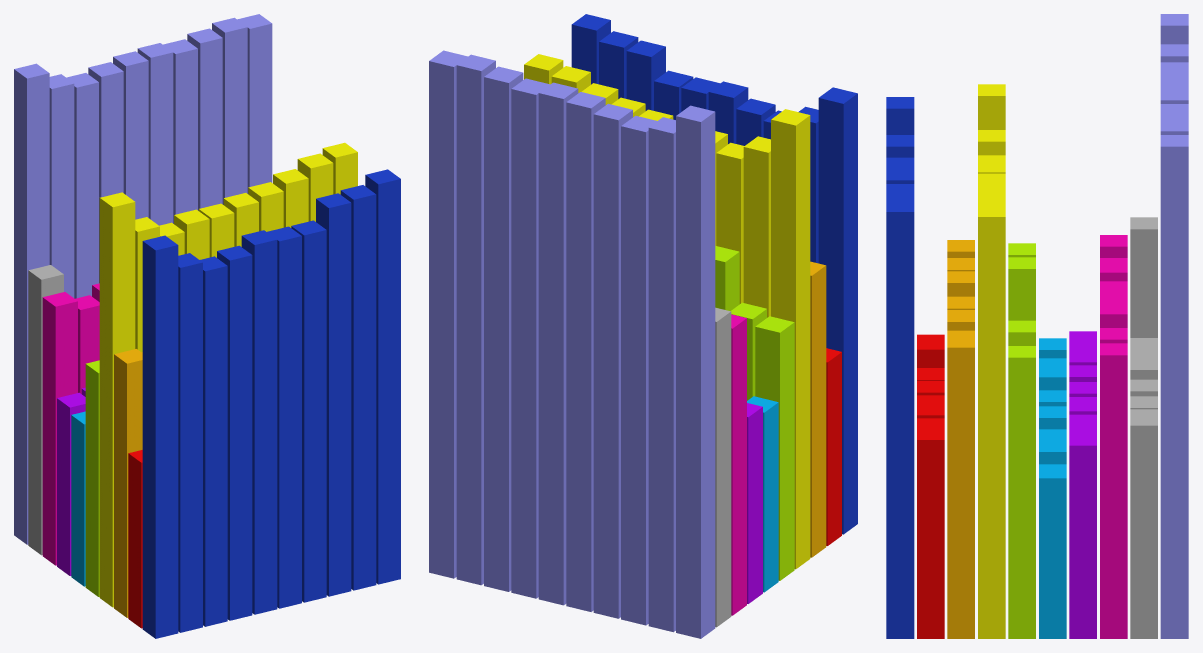
The model's file is ColorBars.glb.
3 renders of one model, left to right at view 1: azimuth 30°, elevation 25°; view 2: azimuth 150°, elevation 25°; view 3: azimuth 270°, elevation 25°, orthographic. The views are drawn at different scales.
Visible parts, largest first — view 1: Cube, Cube.090, Cube.007, Cube.008, Cube.009, Cube.004, Cube.003, Cube.030, Cube.006, Cube.005, Cube.001, Cube.002 (+25 smaller); view 2: Cube.090, Cube.095, Cube.098, Cube.097, Cube.099, Cube.094, Cube.096, Cube.093, Cube.091, Cube.092, Cube, Cube.030 (+21 smaller); view 3: Cube.099, Cube.009, Cube.039, Cube.029, Cube.079, Cube.049, Cube.089, Cube.019, Cube.069, Cube.059, Cube.080, Cube.047 (+29 smaller).
Boxes of the visible parts, left/top/right/bottom form: Cube: left=142, top=235, right=178, bottom=638; Cube.090: left=14, top=63, right=49, bottom=544; Cube.007: left=316, top=193, right=351, bottom=596; Cube.008: left=340, top=185, right=376, bottom=590; Cube.009: left=365, top=169, right=400, bottom=584; Cube.004: left=241, top=230, right=277, bottom=614; Cube.003: left=217, top=245, right=252, bottom=620; Cube.030: left=99, top=192, right=135, bottom=607; Cube.006: left=291, top=220, right=326, bottom=602; Cube.005: left=267, top=226, right=301, bottom=608; Cube.001: left=178, top=253, right=202, bottom=632; Cube.002: left=200, top=256, right=227, bottom=626; Cube.090: left=676, top=105, right=715, bottom=638; Cube.095: left=538, top=82, right=578, bottom=605; Cube.098: left=456, top=54, right=495, bottom=585; Cube.097: left=484, top=66, right=523, bottom=591; Cube.099: left=429, top=50, right=467, bottom=578; Cube.094: left=566, top=92, right=605, bottom=611; Cube.096: left=511, top=78, right=549, bottom=598; Cube.093: left=593, top=103, right=632, bottom=618; Cube.091: left=648, top=117, right=675, bottom=632; Cube.092: left=621, top=115, right=656, bottom=625; Cube: left=818, top=87, right=857, bottom=534; Cube.030: left=771, top=109, right=810, bottom=569; Cube.099: left=1160, top=135, right=1188, bottom=638; Cube.009: left=886, top=200, right=914, bottom=638; Cube.039: left=978, top=205, right=1005, bottom=638; Cube.029: left=947, top=336, right=974, bottom=638; Cube.079: left=1100, top=343, right=1127, bottom=638; Cube.049: left=1008, top=346, right=1035, bottom=638; Cube.089: left=1130, top=414, right=1157, bottom=638; Cube.019: left=917, top=428, right=944, bottom=638; Cube.069: left=1069, top=434, right=1096, bottom=638; Cube.059: left=1039, top=466, right=1066, bottom=638; Cube.080: left=1130, top=217, right=1157, bottom=337; Cube.047: left=1008, top=257, right=1035, bottom=320.
Bounding box in the file's own units: 1.09 × 1.98 × 1.09.
